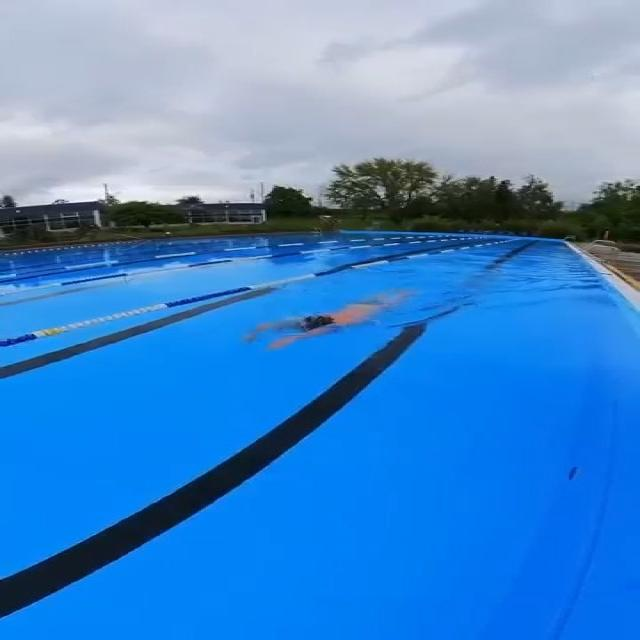Swimming: (208, 283, 432, 358)
